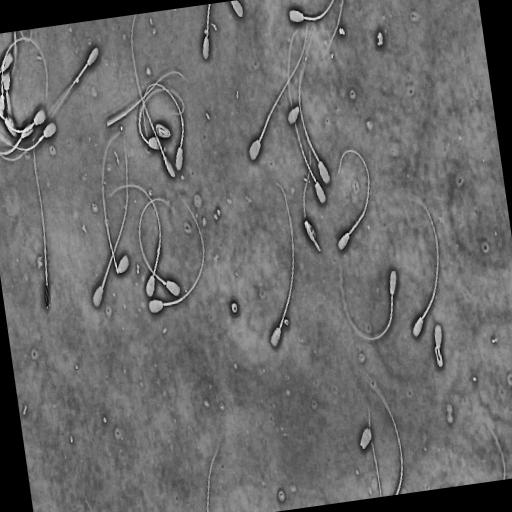coiled-tail: (435, 346, 443, 367), (158, 128, 171, 138)
dirt-particles: (375, 27, 385, 49), (338, 26, 346, 37)
distal-droplet: (157, 248, 160, 255)
folded-tail: (102, 130, 121, 274), (303, 136, 321, 252)
loose-head: (358, 423, 375, 456), (286, 103, 301, 128)
loose-tail: (105, 67, 186, 130), (367, 376, 405, 494), (322, 0, 346, 61), (367, 406, 382, 496), (206, 438, 222, 512)
normal: (247, 21, 309, 167), (129, 14, 179, 184), (285, 25, 328, 208), (147, 193, 207, 318), (104, 178, 163, 302), (90, 137, 130, 313), (297, 12, 333, 189), (340, 256, 399, 344), (137, 197, 183, 300), (409, 195, 441, 343), (269, 178, 296, 352), (101, 125, 130, 278), (0, 35, 49, 120), (335, 145, 372, 254), (142, 81, 185, 174), (31, 125, 51, 315), (49, 47, 100, 117), (302, 126, 322, 255), (0, 122, 58, 153), (0, 131, 41, 165), (0, 105, 48, 133), (288, 0, 336, 25), (432, 321, 447, 372), (0, 48, 16, 78), (154, 123, 173, 141)
